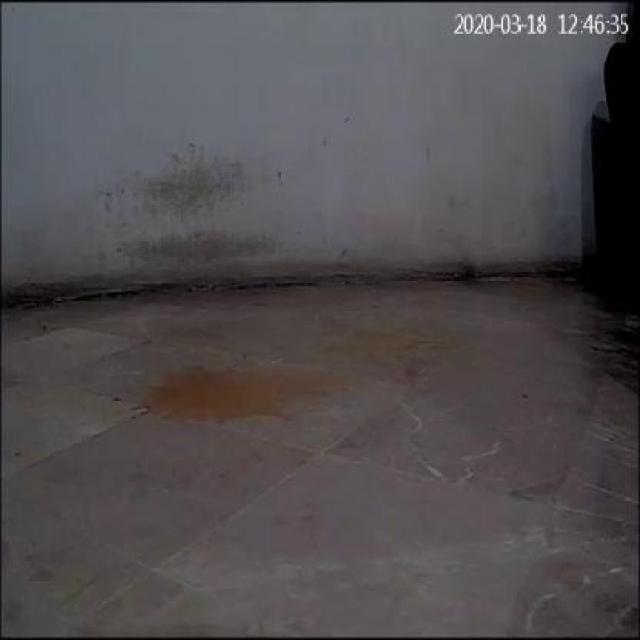spill: (148, 372, 328, 420)
